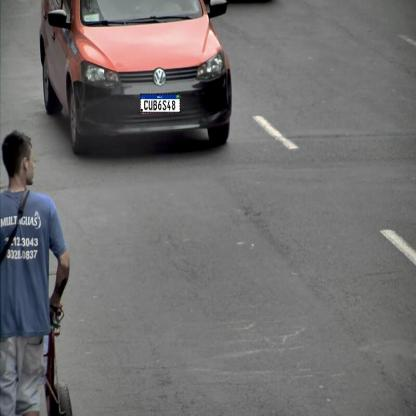PlacaM: (140, 94, 180, 113)
